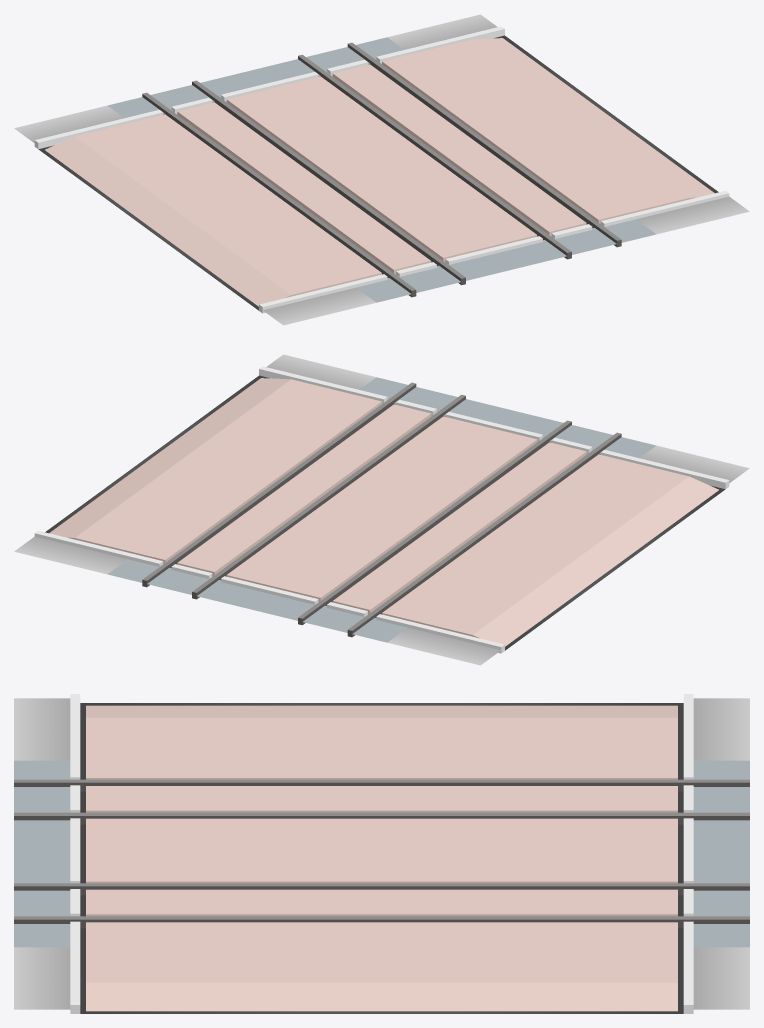
The model's file is tram_railway_005.glb.
3 views of the same model, one above another, from view 1: azimuth 30°, elevation 25°; view 2: azimuth 150°, elevation 25°; view 3: azimuth 270°, elevation 25° (orthographic). The views are drawn at different scales.
Visible parts, largest first — view 1: tram_railway_005; view 2: tram_railway_005; view 3: tram_railway_005.
Part boxes in pixels (x1=…): tram_railway_005: x1=14, y1=14, x2=749, y2=325; tram_railway_005: x1=14, y1=354, x2=749, y2=665; tram_railway_005: x1=14, y1=694, x2=749, y2=1013.
Bounding box in the file's own units: 15 × 0.2 × 15.
1 material, 1 textured.
